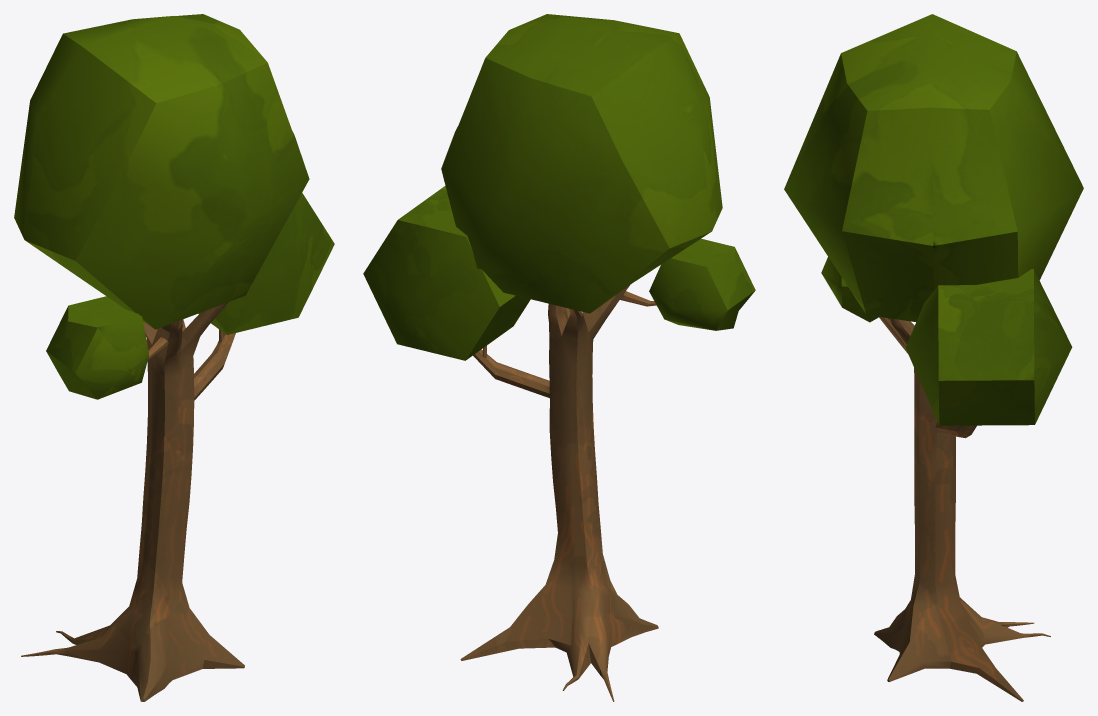
Rendered from arbre.fbx.
3 views of the same model, side by side, from view 1: azimuth 30°, elevation 25°; view 2: azimuth 150°, elevation 25°; view 3: azimuth 270°, elevation 25° (orthographic). The views are drawn at different scales.
Visible parts, largest first — view 1: feuillage, tronc, petit_Feuillage, moyen_Feuillage; view 2: feuillage, tronc, moyen_Feuillage, petit_Feuillage; view 3: feuillage, moyen_Feuillage, tronc, petit_Feuillage.
Part boxes in pixels (box(x1,y1,x2,y2)): feuillage: box(14, 14, 309, 329); tronc: box(21, 302, 244, 701); petit_Feuillage: box(46, 296, 148, 399); moyen_Feuillage: box(198, 193, 334, 334); feuillage: box(441, 14, 722, 313); tronc: box(460, 285, 658, 701); moyen_Feuillage: box(363, 186, 530, 360); petit_Feuillage: box(649, 238, 755, 330); feuillage: box(784, 14, 1083, 321); moyen_Feuillage: box(905, 269, 1072, 425); tronc: box(874, 316, 1050, 701); petit_Feuillage: box(821, 257, 878, 322).
Size of the model in its own units: 7.42 by 14.89 by 6.52.
